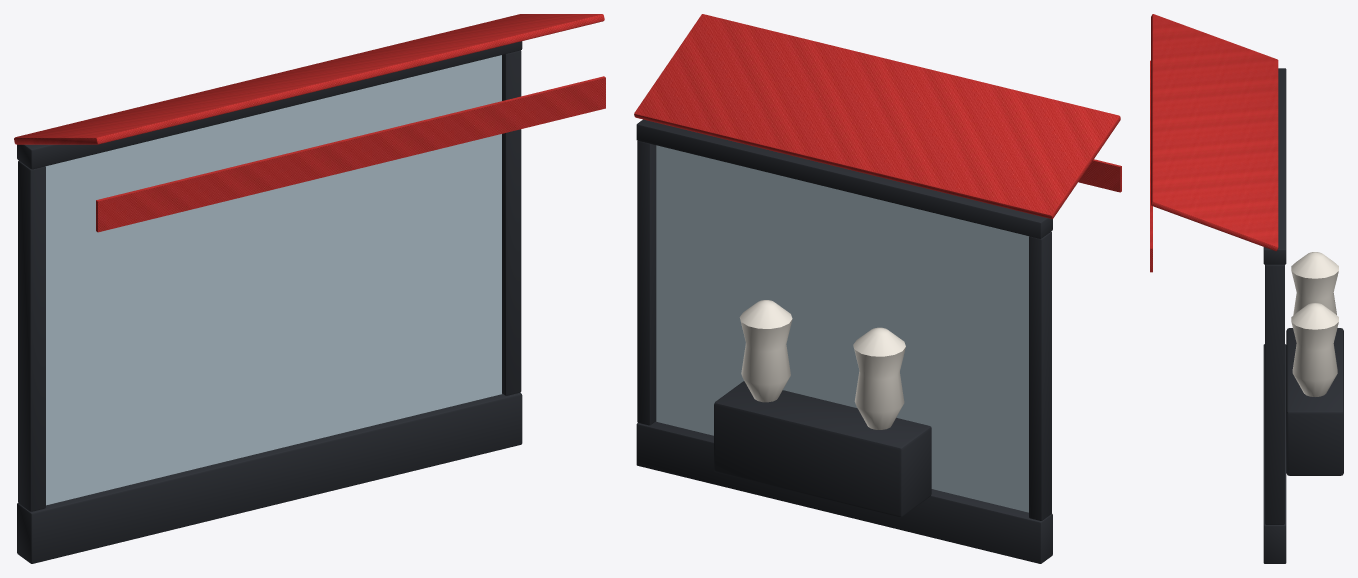
File: fachada-vitrine-28.glb
3 renders of one model, left to right at view 1: azimuth 30°, elevation 25°; view 2: azimuth 150°, elevation 25°; view 3: azimuth 270°, elevation 25°, orthographic. The views are drawn at different scales.
Parts seen in each view (by area): view 1: vidro, soleira, sanefa, toldo, coluna, coluna.001, verga; view 2: vidro, toldo, expositor, soleira, verga, coluna, coluna.001, busto.001, busto, sanefa; view 3: toldo, expositor, coluna.001, busto.001, busto, verga, soleira, sanefa.
Boxes of the visible parts, left/top/right/bottom form: vidro: left=45, top=55, right=501, bottom=505; soleira: left=17, top=392, right=522, bottom=563; sanefa: left=96, top=76, right=605, bottom=232; toldo: left=14, top=14, right=604, bottom=144; coluna: left=18, top=161, right=45, bottom=511; coluna.001: left=502, top=50, right=521, bottom=395; verga: left=17, top=41, right=522, bottom=169; vidro: left=656, top=145, right=1028, bottom=512; toldo: left=634, top=14, right=1120, bottom=218; expositor: left=714, top=381, right=931, bottom=516; soleira: left=636, top=421, right=1052, bottom=563; verga: left=636, top=119, right=1052, bottom=238; coluna: left=1029, top=231, right=1051, bottom=520; coluna.001: left=637, top=141, right=656, bottom=425; busto.001: left=739, top=300, right=792, bottom=402; busto: left=853, top=327, right=905, bottom=429; sanefa: left=1078, top=159, right=1121, bottom=192; toldo: left=1151, top=14, right=1278, bottom=251; expositor: left=1286, top=328, right=1343, bottom=475; coluna.001: left=1265, top=264, right=1284, bottom=524; busto.001: left=1291, top=303, right=1338, bottom=396; busto: left=1291, top=252, right=1338, bottom=314; verga: left=1263, top=68, right=1286, bottom=264; soleira: left=1263, top=344, right=1286, bottom=563; sanefa: left=1150, top=60, right=1152, bottom=272.
Size of the model in its own units: 3.1 by 2.81 by 1.35.
4 materials, 1 textured.
